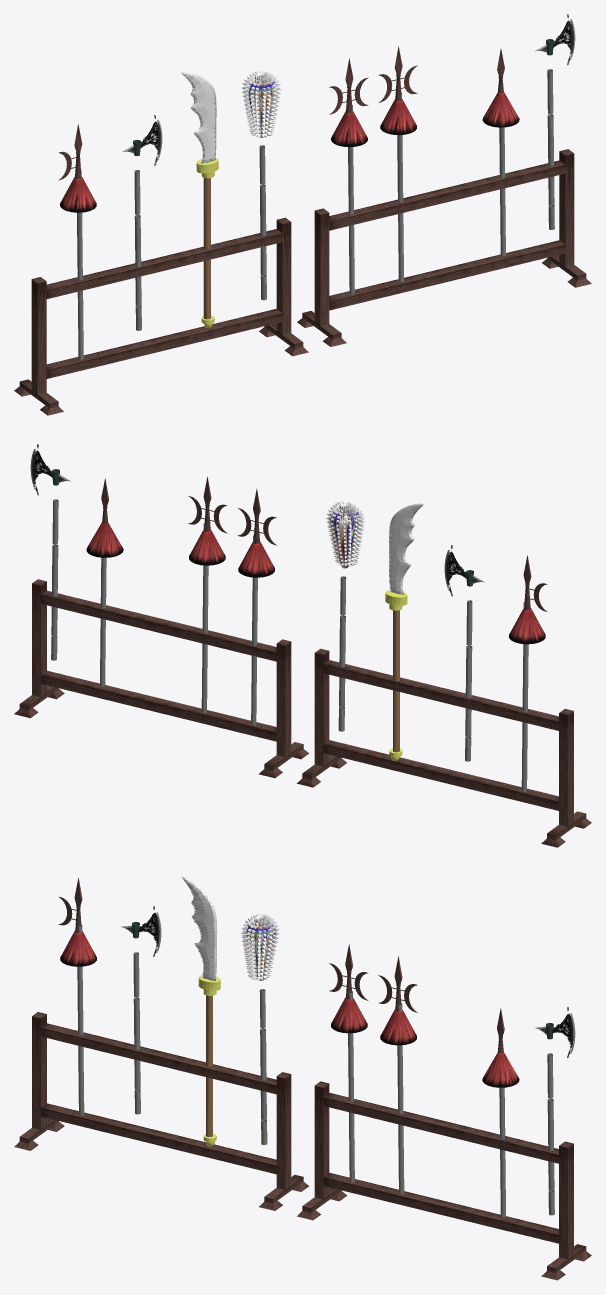
The model's file is 兵器架01.fbx.
3 renders of one model, top to bottom at view 1: azimuth 30°, elevation 25°; view 2: azimuth 150°, elevation 25°; view 3: azimuth 330°, elevation 25°, orthographic.
Visible parts, largest first — view 1: qingmo_obj_793 [5145071], qingmo_obj_802 [5145098], qingmo_obj_801 [5145095], qingmo_obj_792 [5145068], qingmo_obj_796 [5145080], qingmo_obj_805 [5145107], qingmo_obj_773 [5145011], qingmo_obj_786 [5145050], qingmo_obj_789 [5145059], qingmo_obj_798 [5145086], qingmo_obj_807 [5145113], qingmo_obj_811 [5145125] (+13 smaller); view 2: qingmo_obj_802 [5145098], qingmo_obj_793 [5145071], qingmo_obj_801 [5145095], qingmo_obj_792 [5145068], qingmo_obj_805 [5145107], qingmo_obj_786 [5145050], qingmo_obj_796 [5145080], qingmo_obj_789 [5145059], qingmo_obj_798 [5145086], qingmo_obj_807 [5145113], qingmo_obj_811 [5145125], qingmo_obj_773 [5145011] (+13 smaller); view 3: qingmo_obj_793 [5145071], qingmo_obj_802 [5145098], qingmo_obj_801 [5145095], qingmo_obj_792 [5145068], qingmo_obj_789 [5145059], qingmo_obj_786 [5145050], qingmo_obj_773 [5145011], qingmo_obj_798 [5145086], qingmo_obj_805 [5145107], qingmo_obj_796 [5145080], qingmo_obj_807 [5145113], qingmo_obj_811 [5145125] (+13 smaller).
Boxes of the visible parts, x1,y1,x2,y2 form: qingmo_obj_793 [5145071]: (46, 309, 283, 378); qingmo_obj_802 [5145098]: (329, 240, 566, 310); qingmo_obj_801 [5145095]: (329, 160, 566, 230); qingmo_obj_792 [5145068]: (46, 229, 282, 298); qingmo_obj_796 [5145080]: (31, 277, 46, 394); qingmo_obj_805 [5145107]: (314, 208, 329, 326); qingmo_obj_773 [5145011]: (242, 70, 281, 137); qingmo_obj_786 [5145050]: (181, 72, 216, 163); qingmo_obj_789 [5145059]: (276, 217, 291, 335); qingmo_obj_798 [5145086]: (559, 149, 574, 266); qingmo_obj_807 [5145113]: (535, 14, 575, 229); qingmo_obj_811 [5145125]: (122, 115, 162, 330); qingmo_obj_802 [5145098]: (41, 670, 276, 741); qingmo_obj_793 [5145071]: (323, 740, 558, 810); qingmo_obj_801 [5145095]: (41, 590, 276, 661); qingmo_obj_792 [5145068]: (323, 660, 560, 731); qingmo_obj_805 [5145107]: (276, 639, 291, 757); qingmo_obj_786 [5145050]: (388, 503, 423, 594); qingmo_obj_796 [5145080]: (559, 708, 573, 826); qingmo_obj_789 [5145059]: (314, 648, 329, 766); qingmo_obj_798 [5145086]: (32, 579, 46, 697); qingmo_obj_807 [5145113]: (30, 444, 70, 660); qingmo_obj_811 [5145125]: (444, 545, 484, 761); qingmo_obj_773 [5145011]: (326, 501, 364, 566); qingmo_obj_793 [5145071]: (40, 1103, 277, 1174); qingmo_obj_802 [5145098]: (323, 1172, 560, 1243); qingmo_obj_801 [5145095]: (323, 1092, 560, 1163); qingmo_obj_792 [5145068]: (41, 1023, 276, 1094); qingmo_obj_789 [5145059]: (276, 1072, 291, 1189); qingmo_obj_786 [5145050]: (182, 876, 217, 980); qingmo_obj_773 [5145011]: (241, 913, 279, 980); qingmo_obj_798 [5145086]: (559, 1141, 573, 1259); qingmo_obj_805 [5145107]: (314, 1081, 329, 1199); qingmo_obj_796 [5145080]: (32, 1012, 46, 1129); qingmo_obj_807 [5145113]: (535, 1007, 575, 1215); qingmo_obj_811 [5145125]: (121, 906, 161, 1114).
Bounding box in the file's own units: 40.19 × 4.47 × 20.77.
Materials: 10 (5 with a texture image).
